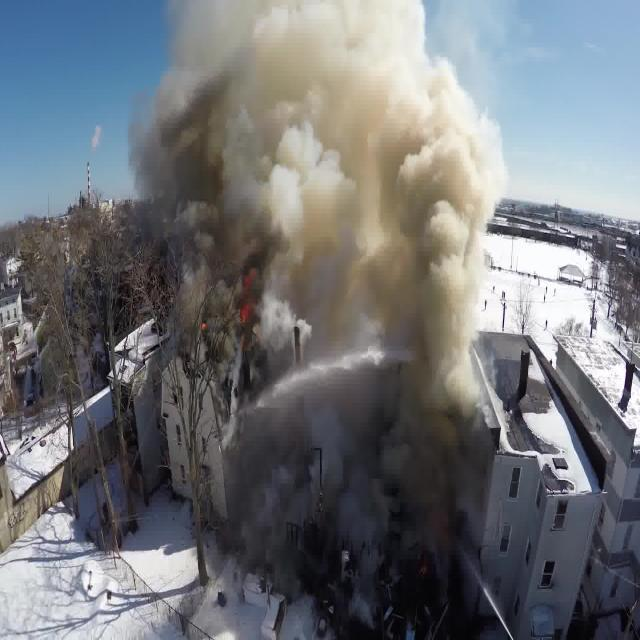Fire: (240, 269, 265, 329), (201, 318, 209, 336)
Smoke: (198, 22, 476, 245)
